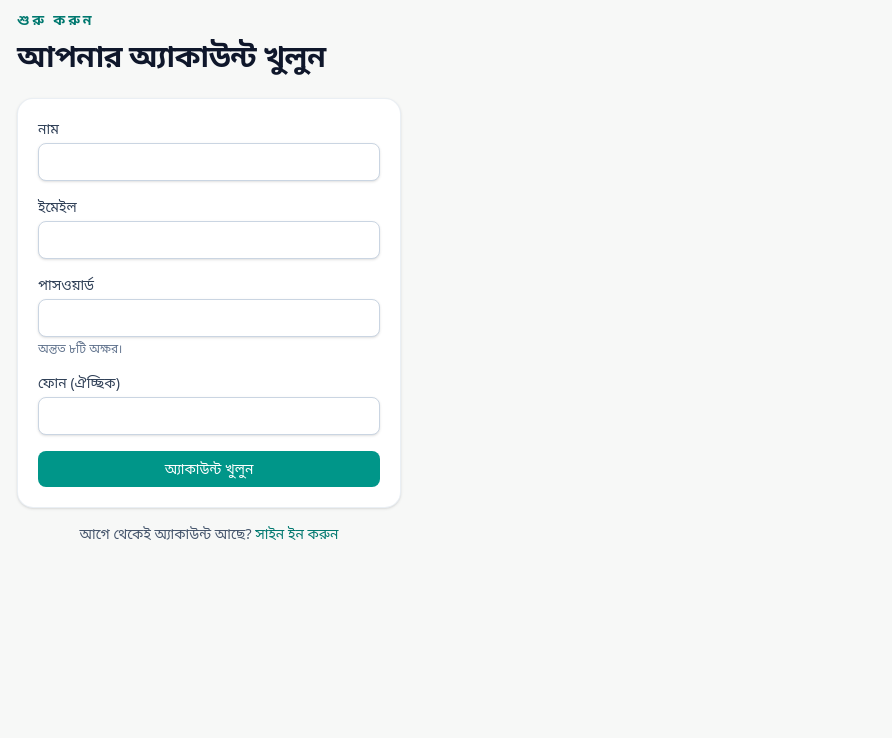
Test: RegisterPage in Bangla › welcomes the new resident in Bangla
This screenshot has width=892, height=738.
Type "Rina" into the field labelled "নাম".
click(209, 162); type("Rina")  # box left=38, top=143, right=380, bottom=181
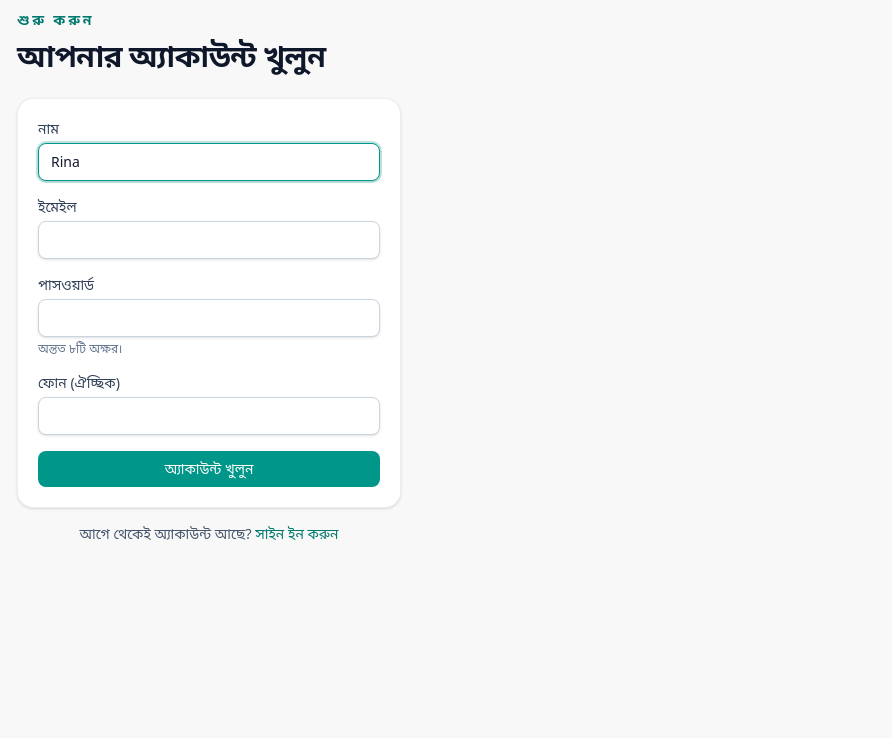
Type "rina@e.com" into the field labelled "ইমেইল".
click(209, 240); type("rina@e.com")  # box left=38, top=221, right=380, bottom=259
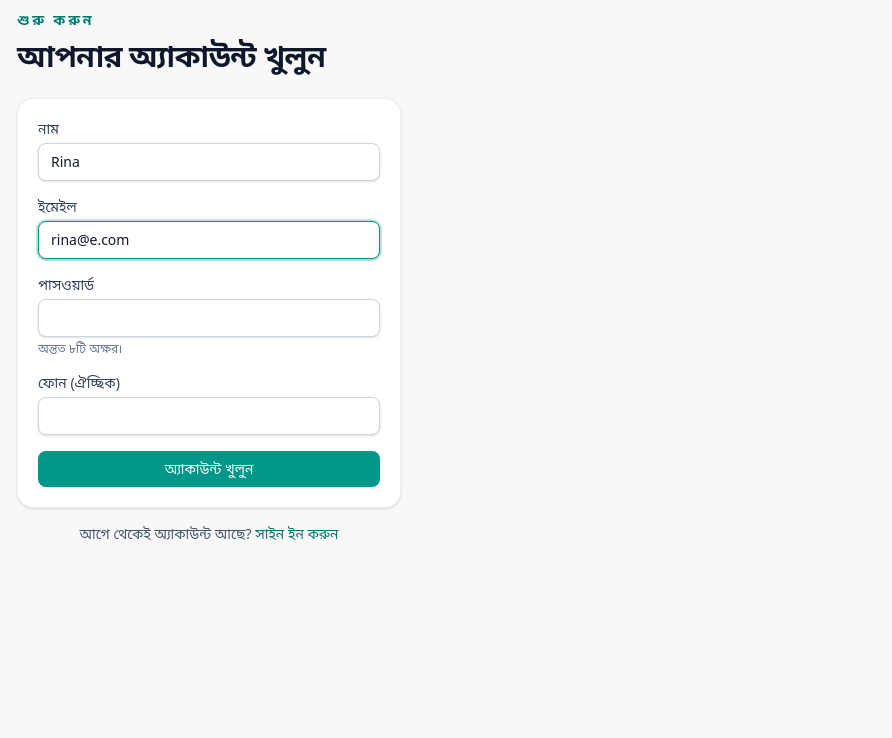
Type "CorrectHorse9" into the password field labelled "পাসওয়ার্ড".
click(209, 318); type("CorrectHorse9")  # box left=38, top=299, right=380, bottom=337
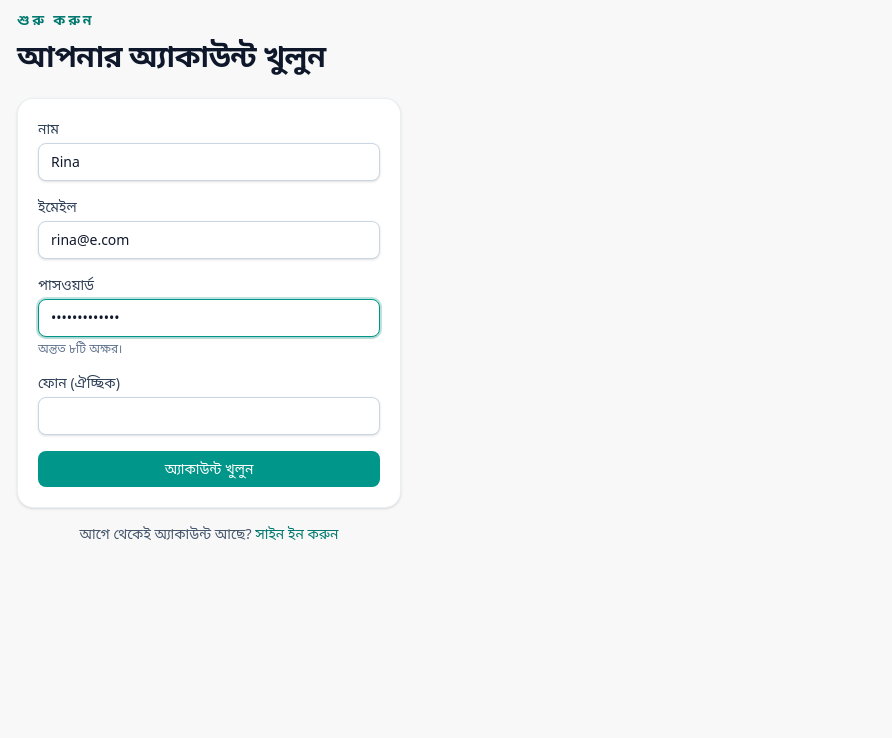
Click the button "অ্যাকাউন্ট খুলুন".
click(209, 469)  # box left=38, top=451, right=380, bottom=487
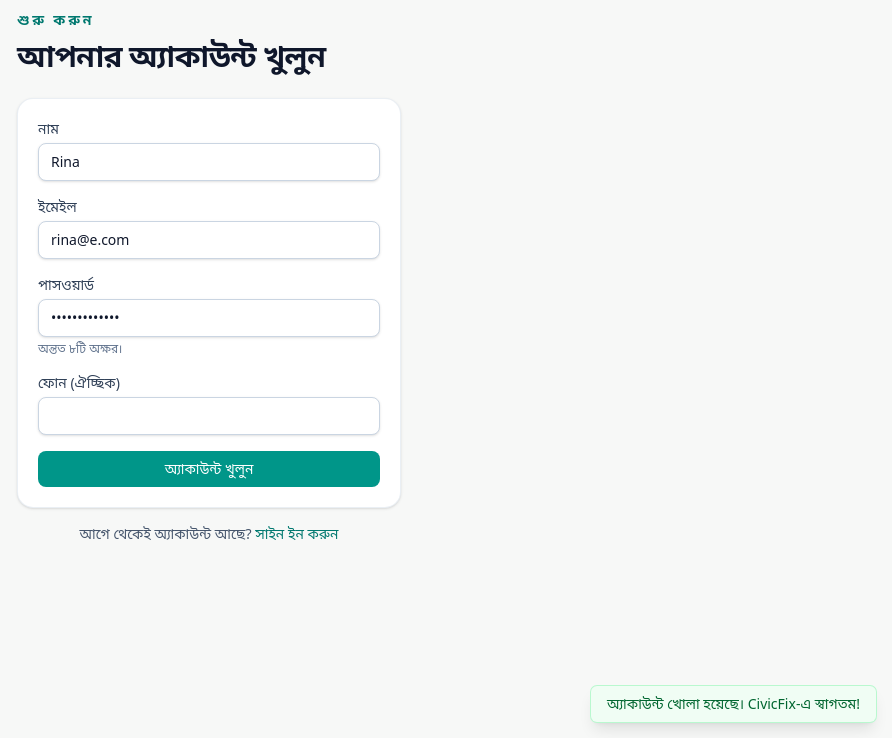
Expected: the text "অ্যাকাউন্ট খোলা হয়েছে। CivicFix-এ স্বাগতম!" is shown, left=591, top=686, right=876, bottom=722
